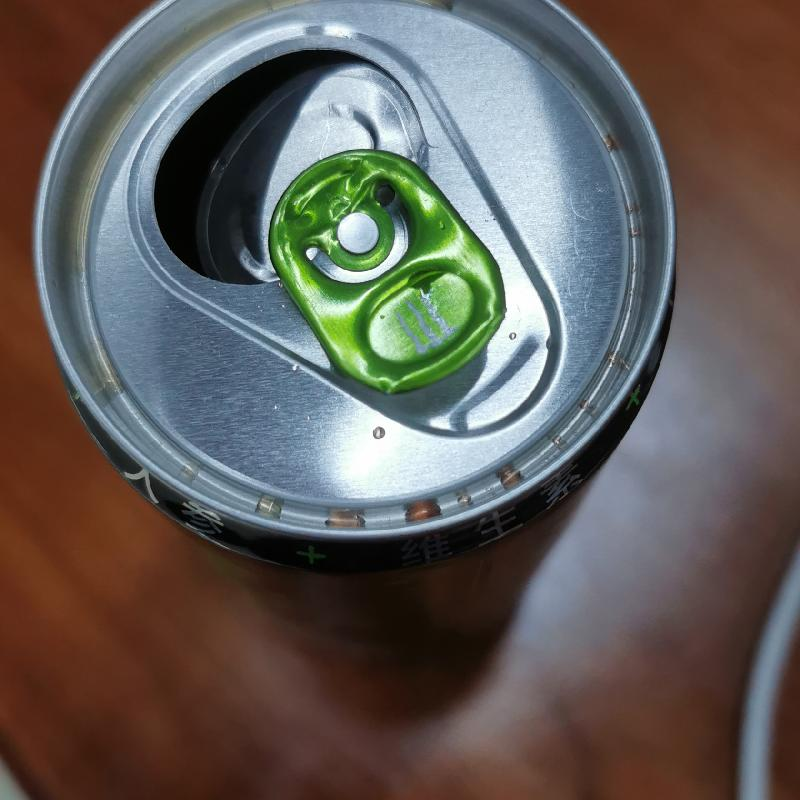cans: (27, 3, 678, 586)
